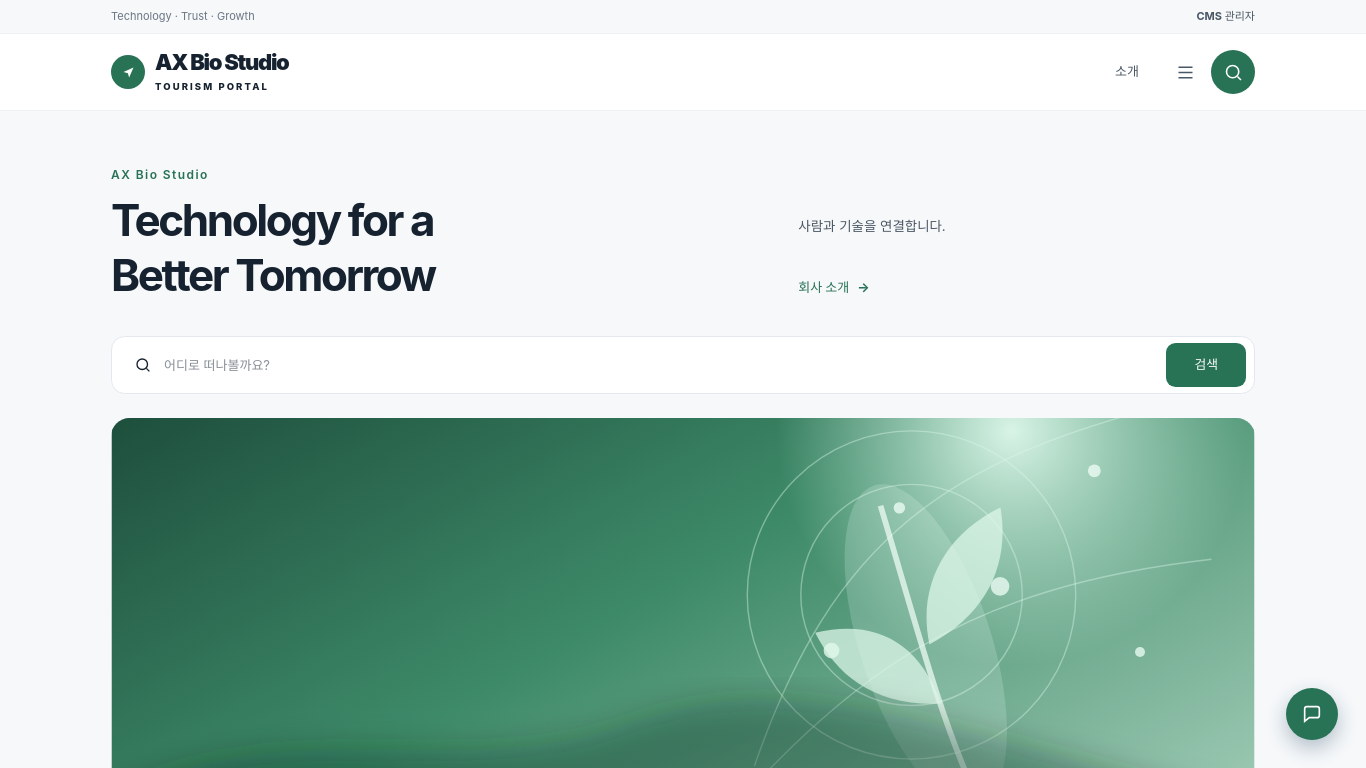
Test case: the tour helper opens as a floating panel and closes back to the launcher
Step 1. Click the button named "관광 도우미 열기" → (1312, 714), box [1286,688,1338,740]
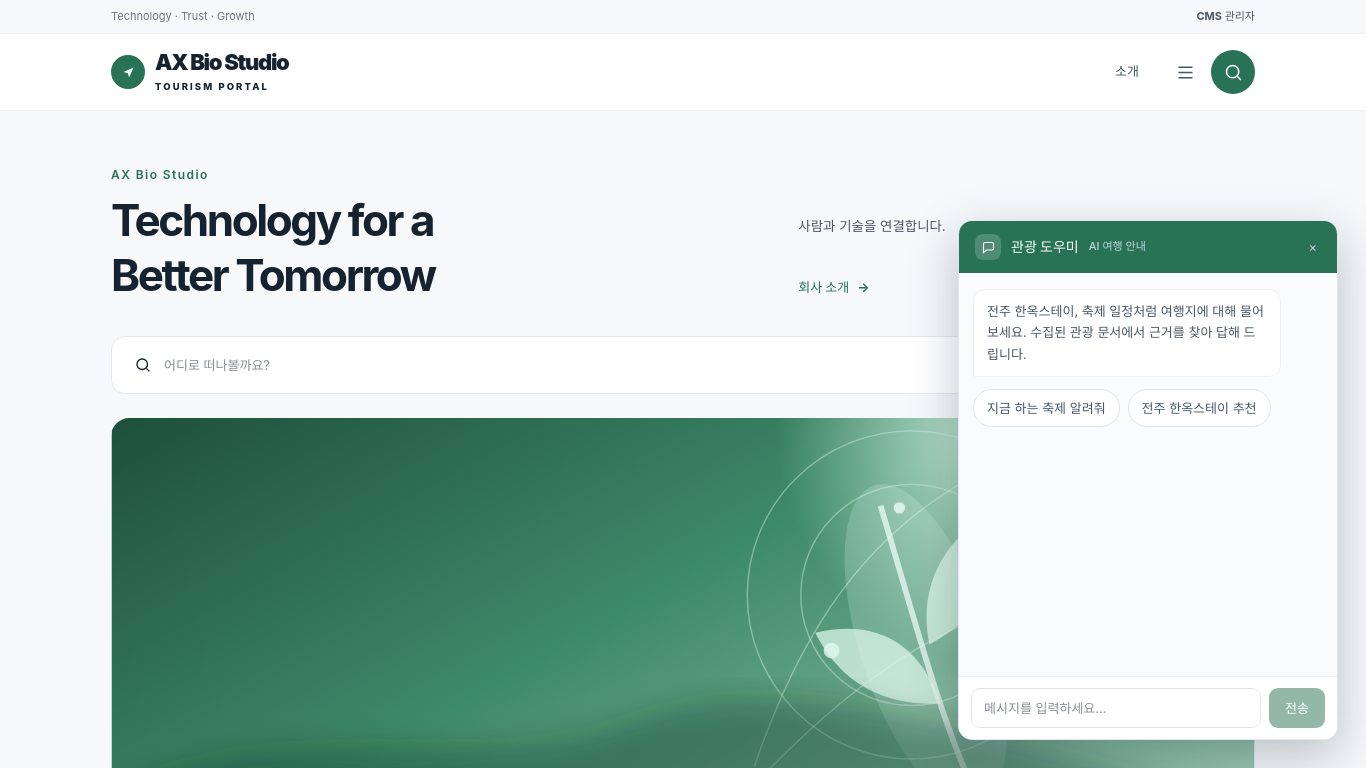
expect the field named "관광 도우미 메시지" is enabled: met, box [971,688,1261,728]
Step 2. Click the button named "관광 도우미 닫기" → (1313, 247), box [1304,235,1321,259]
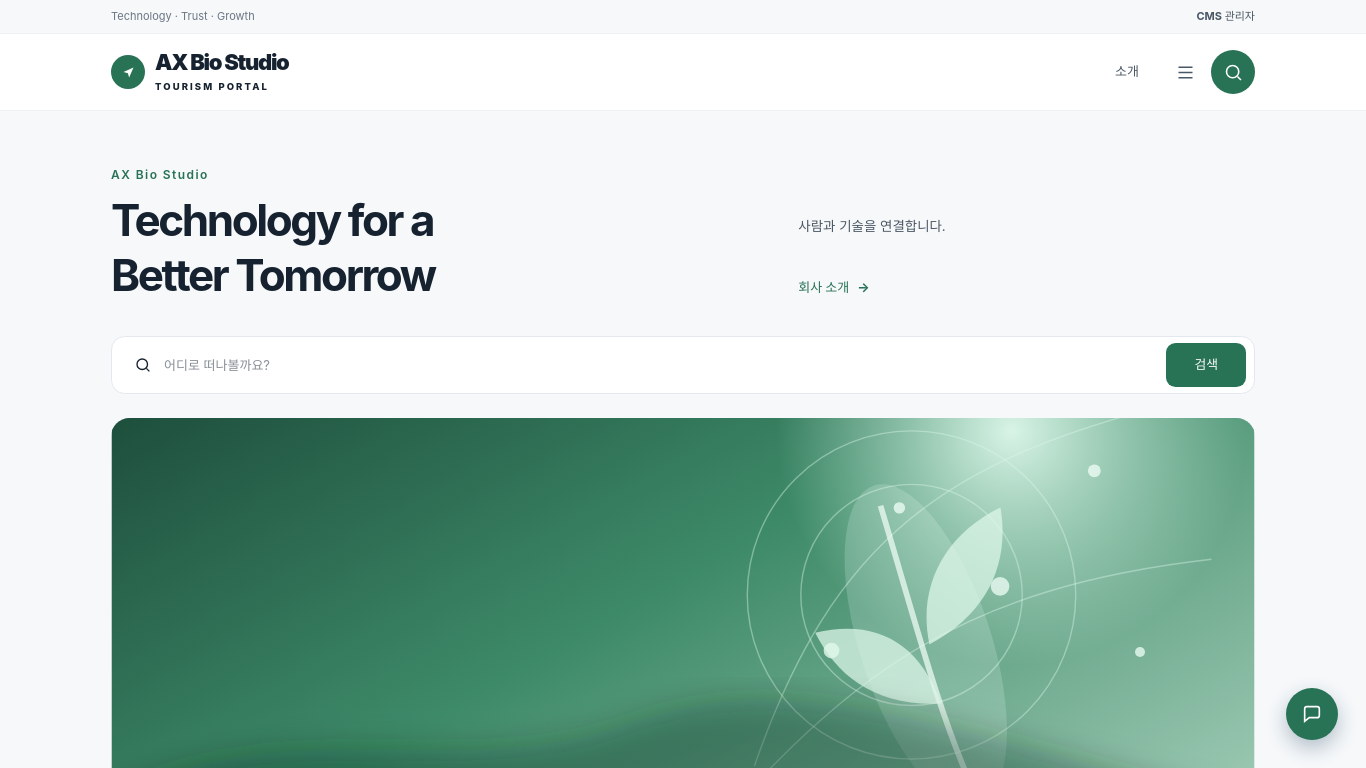
expect the text "관광 도우미" is gone: met
expect the button named "관광 도우미 열기" is shown: met, box [1286,688,1338,740]
